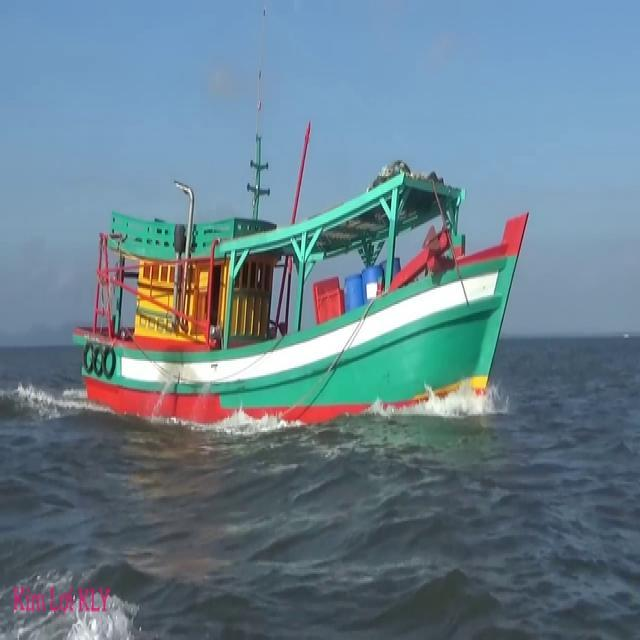Ship: (77, 156, 533, 434)
